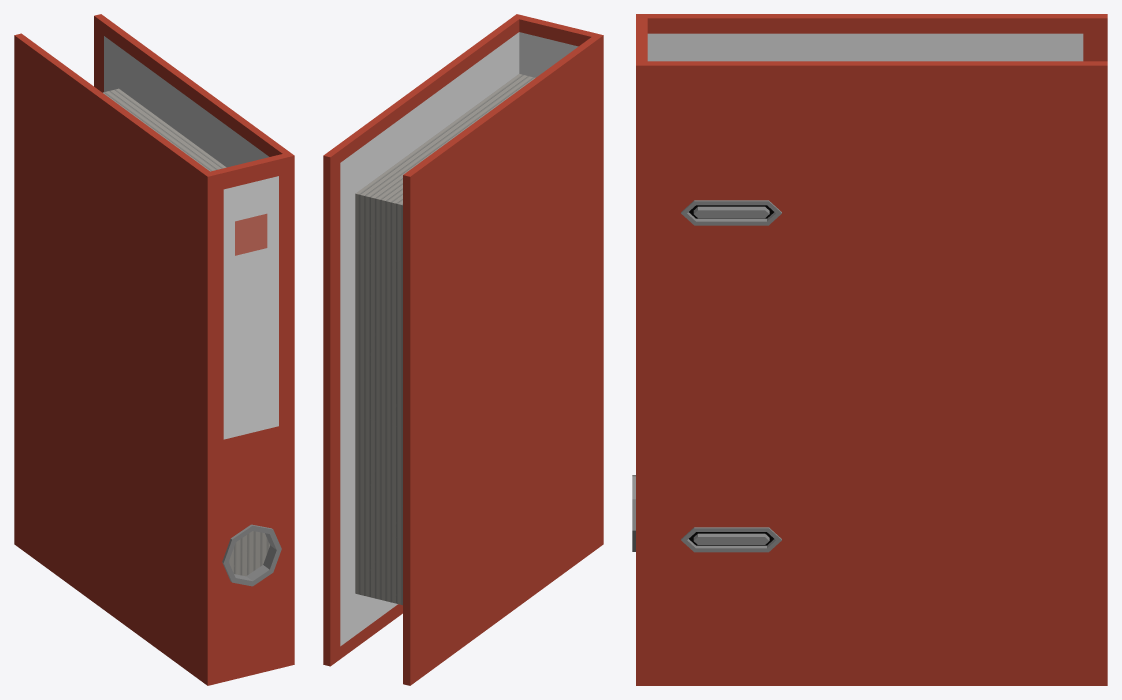
The model's file is Int_OfficeFolder01_2.fbx.
3 renders of one model, left to right at view 1: azimuth 30°, elevation 25°; view 2: azimuth 150°, elevation 25°; view 3: azimuth 270°, elevation 25°, orthographic. The views are drawn at different scales.
Parts seen in each view (by area): view 1: Int_OfficeFolder01_2; view 2: Int_OfficeFolder01_2; view 3: Int_OfficeFolder01_2.
Part boxes in pixels (box(x1,y1,x2,y2)): Int_OfficeFolder01_2: box(14, 14, 294, 685); Int_OfficeFolder01_2: box(323, 14, 603, 685); Int_OfficeFolder01_2: box(632, 14, 1107, 685).
Size of what is drawn, in the model's own units: 9.61 by 36.06 by 51.94.
